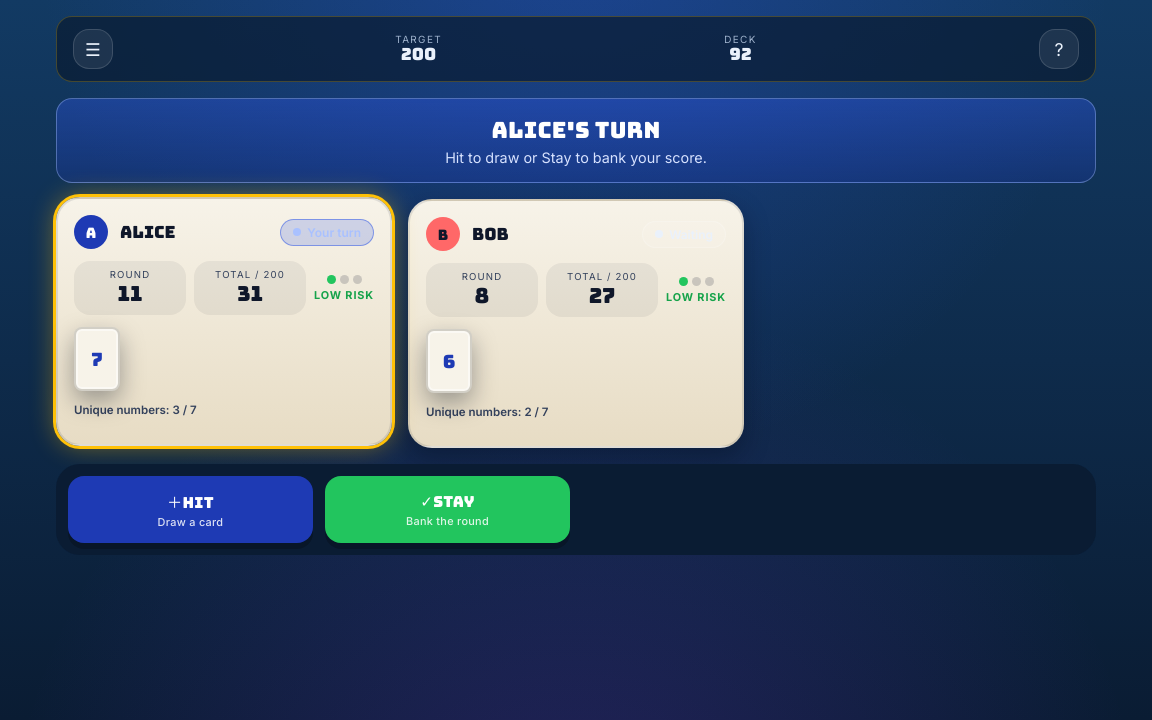
it: Page guard-path coverage behavior › covers round-summary fallback builder when action result has no summary payload
Expected: the heading "Alice's turn" is shown, x1=492 y1=115 x2=661 y2=145
Click the button "✓Stay Bank the round" at (448, 510), box x1=325 y1=476 x2=570 y2=543
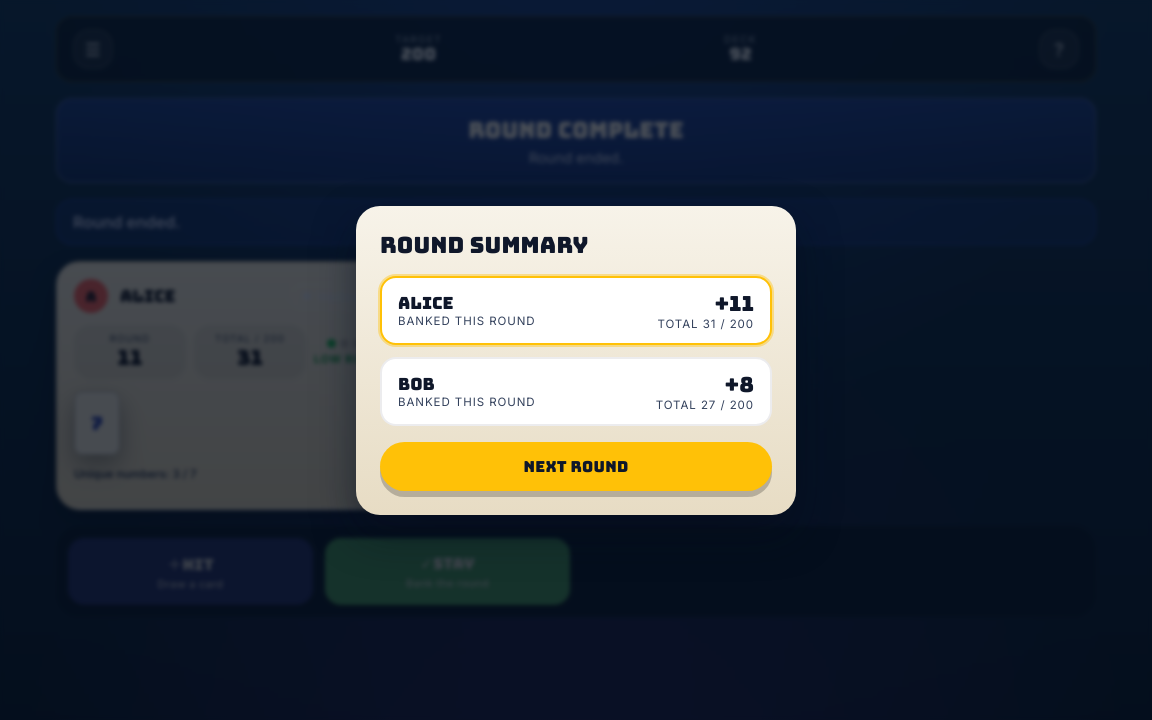
Expected: the text "Alice" is shown, x1=398 y1=292 x2=454 y2=314
Expected: the text "Bob" is shown, x1=398 y1=373 x2=435 y2=395
